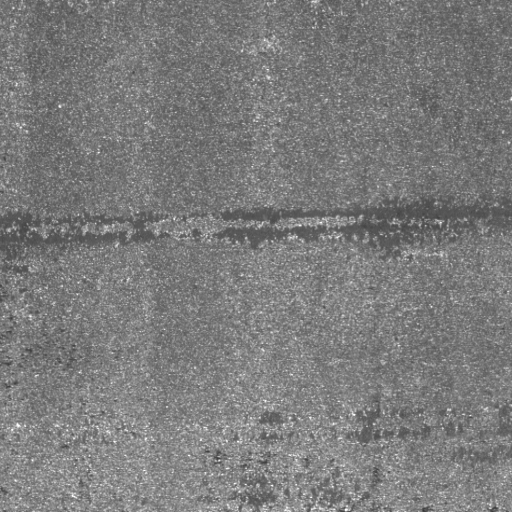hengxiangliewen: (1, 205, 511, 252)
